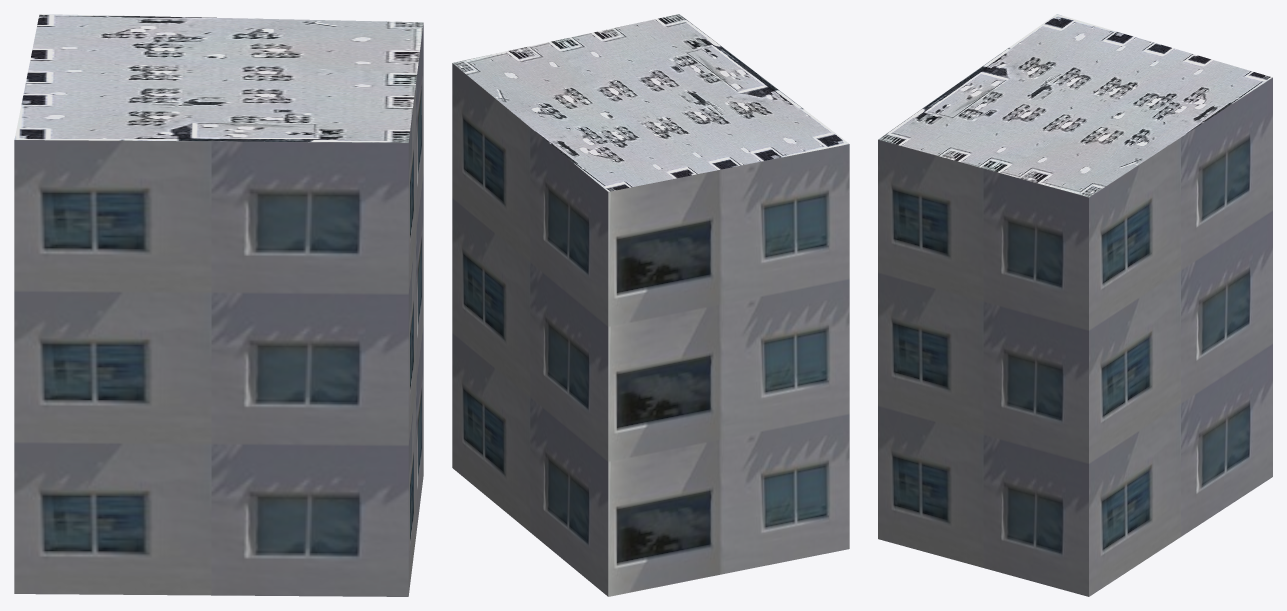
File: ResTex__3207.fbx
The picture shows the model from 3 angles, left to right: view 1: azimuth 30°, elevation 25°; view 2: azimuth 150°, elevation 25°; view 3: azimuth 270°, elevation 25°; orthographic projection. The views are drawn at different scales.
Parts seen in each view (by area): view 1: CityEngineMaterial_10_m, CityEngineMaterial_4_m; view 2: CityEngineMaterial_10_m, CityEngineMaterial_4_m; view 3: CityEngineMaterial_10_m, CityEngineMaterial_4_m.
Part boxes in pixels (x1,y1,x2,y2): CityEngineMaterial_10_m: (14, 23, 423, 596); CityEngineMaterial_4_m: (14, 14, 423, 142); CityEngineMaterial_10_m: (452, 63, 849, 596); CityEngineMaterial_4_m: (453, 14, 848, 191); CityEngineMaterial_10_m: (878, 77, 1272, 596); CityEngineMaterial_4_m: (878, 14, 1272, 197).
Size of the model in its own units: 8.86 by 9 by 8.06.
Materials: 2 (2 with a texture image).
